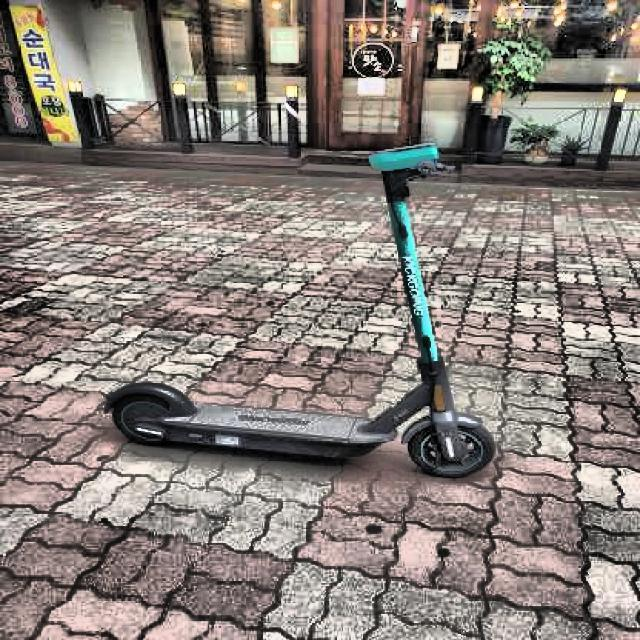bike: (103, 141, 495, 478)
